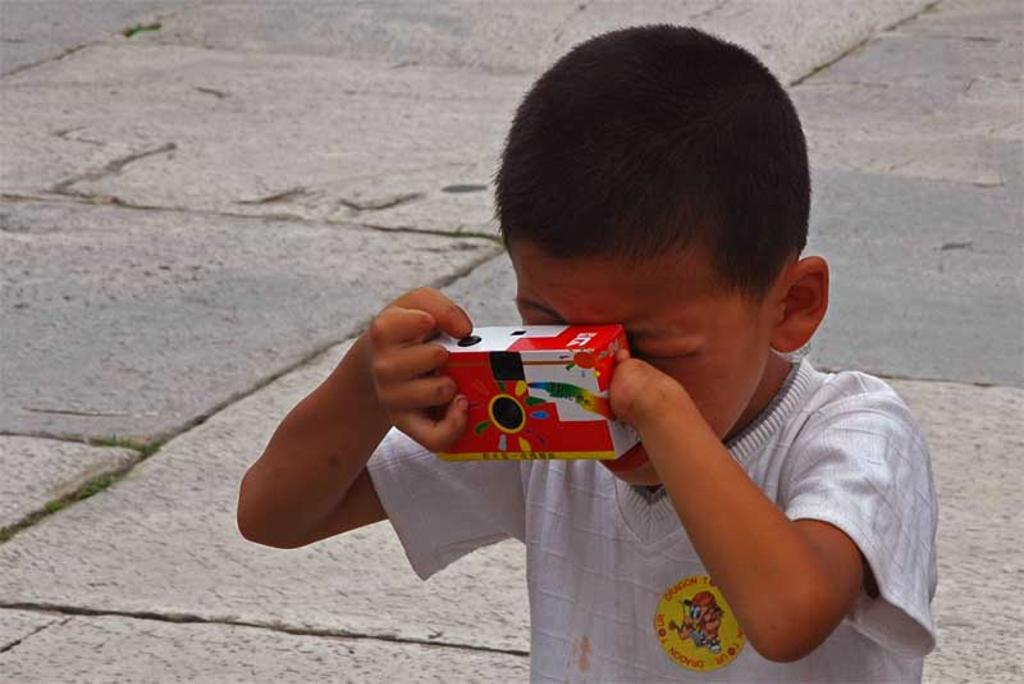face: (506, 184, 754, 492)
